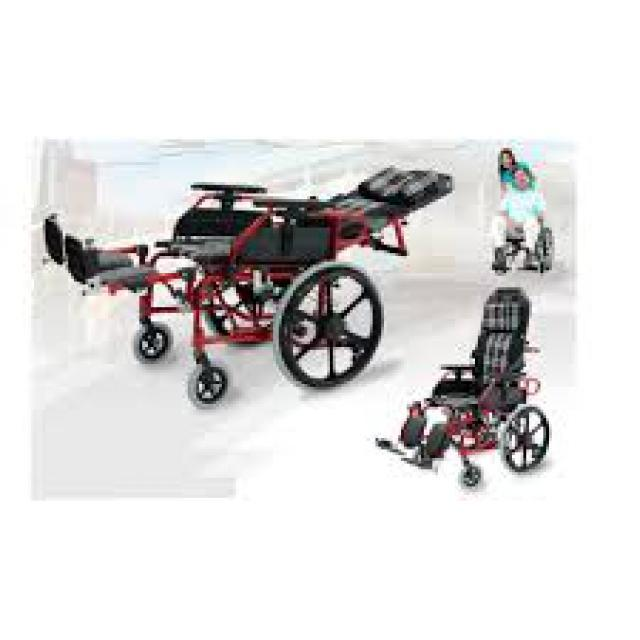wheelchair: (367, 279, 560, 495)
